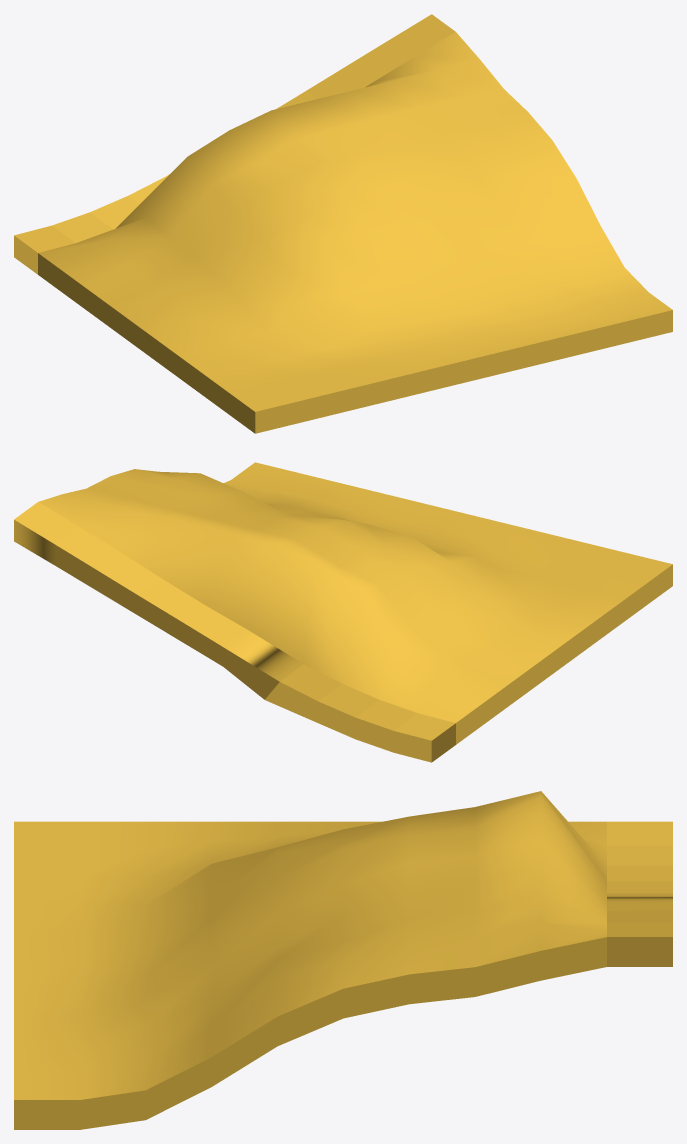
The model's file is Flach - Unten - Ecke x - a.fbx.
The picture shows the model from 3 angles, top to bottom: view 1: azimuth 30°, elevation 25°; view 2: azimuth 150°, elevation 25°; view 3: azimuth 270°, elevation 25°; orthographic projection. The views are drawn at different scales.
Visible parts, largest first — view 1: Flach - Unten - Ecke x - a; view 2: Flach - Unten - Ecke x - a; view 3: Flach - Unten - Ecke x - a.
Boxes of the visible parts, box(x1,y1,x2,y2) form: Flach - Unten - Ecke x - a: box(14, 14, 672, 433); Flach - Unten - Ecke x - a: box(14, 462, 672, 762); Flach - Unten - Ecke x - a: box(14, 791, 672, 1129).
Bounding box in the file's own units: 394 × 127 × 394.
